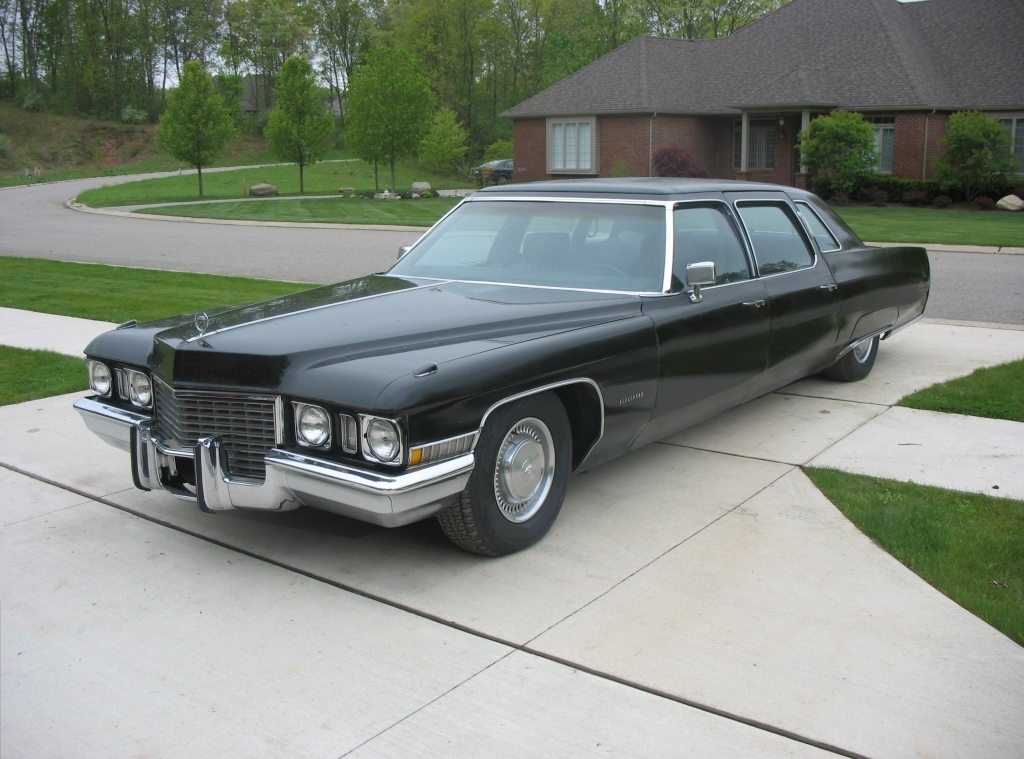Car: (69, 172, 933, 565)
